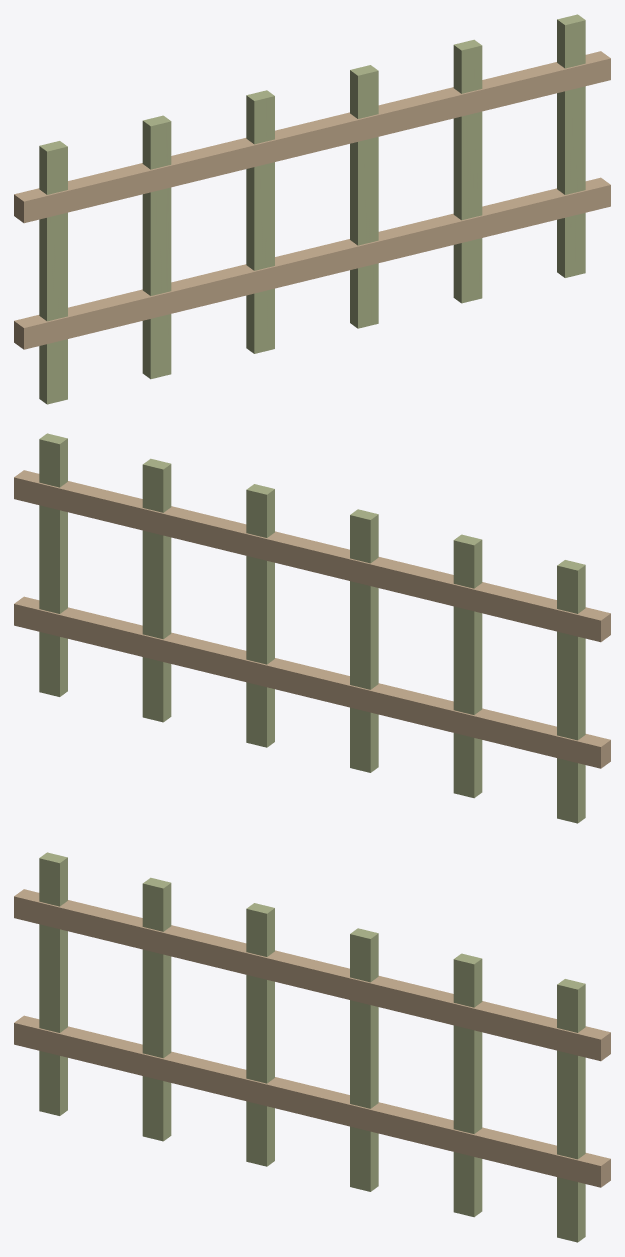
The model's file is palm_fence.glb.
3 views of the same model, one above another, from view 1: azimuth 30°, elevation 25°; view 2: azimuth 150°, elevation 25°; view 3: azimuth 330°, elevation 25° (orthographic).
Visible parts, largest first — view 1: palm_fence; view 2: palm_fence; view 3: palm_fence.
Boxes of the visible parts, box(x1,y1,x2,y2) form: palm_fence: box(14, 14, 610, 404); palm_fence: box(14, 433, 610, 823); palm_fence: box(14, 852, 610, 1242).
Bounding box in the file's own units: 1.7 × 0.7 × 0.05.
